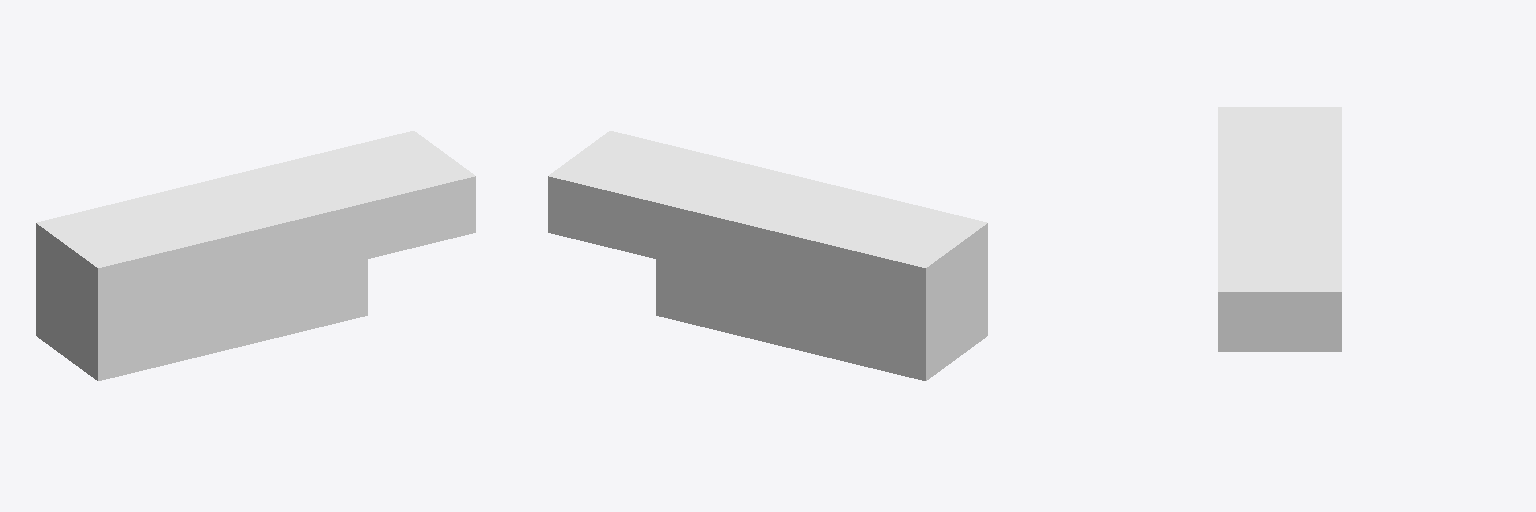
The model's file is gladiator-12.obj.
3 renders of one model, left to right at view 1: azimuth 30°, elevation 25°; view 2: azimuth 150°, elevation 25°; view 3: azimuth 270°, elevation 25°, orthographic.
Visible parts, largest first — view 1: object 1; view 2: object 1; view 3: object 1.
Boxes of the visible parts, <box> form: object 1: <box>36,131,475,380</box>; object 1: <box>548,131,987,380</box>; object 1: <box>1218,107,1341,351</box>.
Bounding box in the file's own units: 0.7 × 0.2 × 0.2.